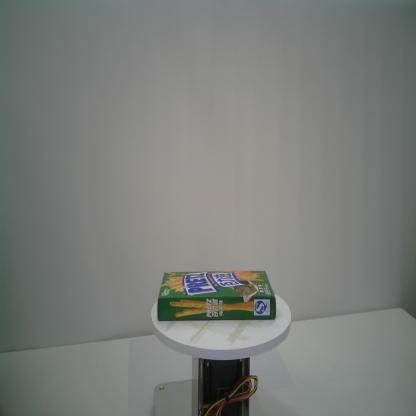Dessert: (157, 270, 276, 322)
